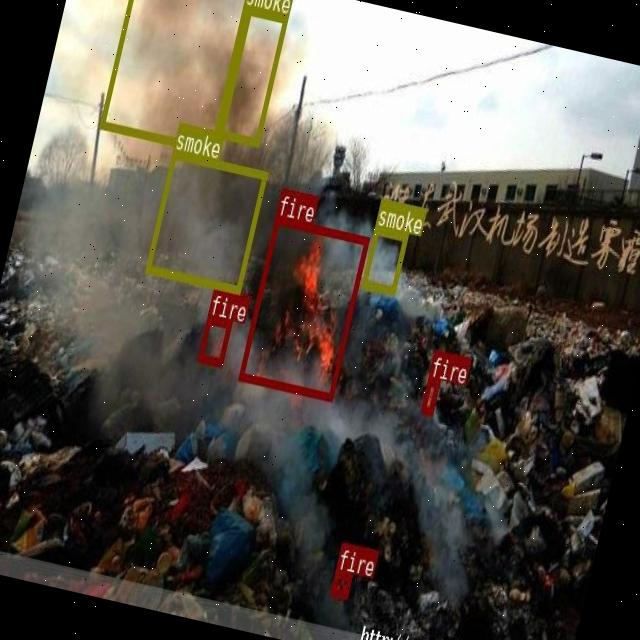fire: (238, 214, 369, 400), (196, 313, 232, 365), (419, 374, 439, 414), (330, 569, 351, 596)
smoke: (98, 0, 257, 152), (144, 148, 268, 293), (212, 3, 287, 144), (361, 225, 408, 293)
